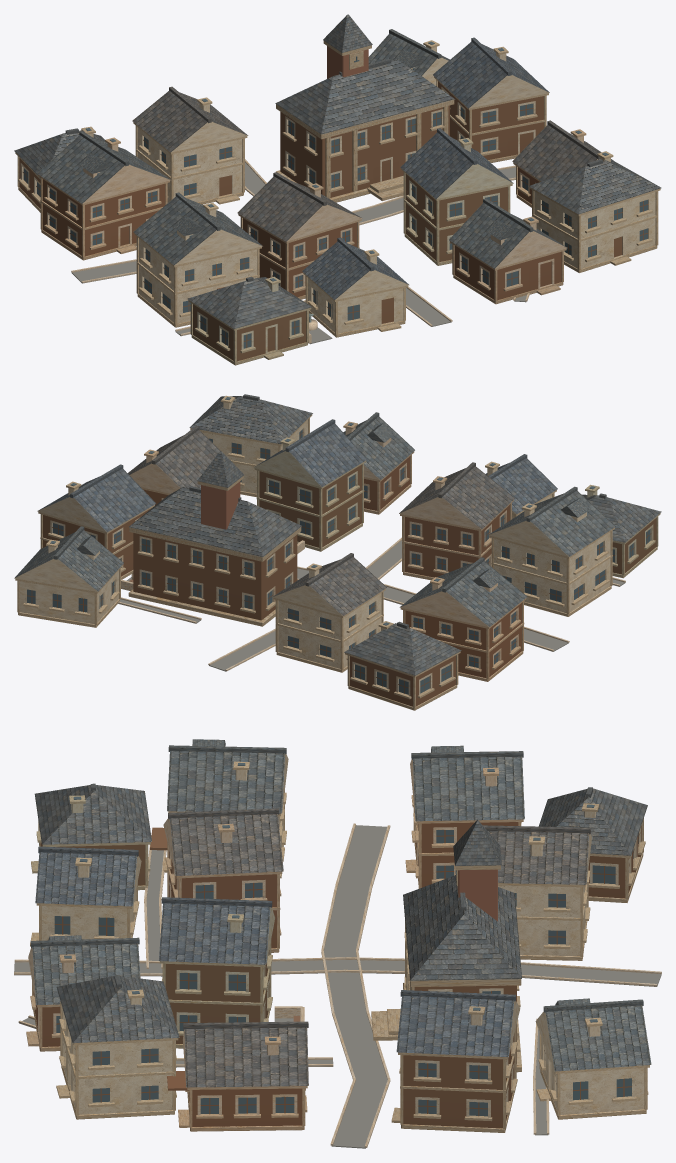
The model's file is city_nordic_0.gltf.
3 views of the same model, one above another, from view 1: azimuth 30°, elevation 25°; view 2: azimuth 150°, elevation 25°; view 3: azimuth 270°, elevation 25° (orthographic). The views are drawn at different scales.
Visible parts, largest first — view 1: city_nordic_0; view 2: city_nordic_0; view 3: city_nordic_0.
Part boxes in pixels (x1,y1,x2,y2): city_nordic_0: [14, 14, 661, 365]; city_nordic_0: [14, 394, 661, 710]; city_nordic_0: [14, 739, 661, 1148].
Bounding box in the file's own units: 1 × 0.2934 × 0.8483.
6 materials, 1 textured.
